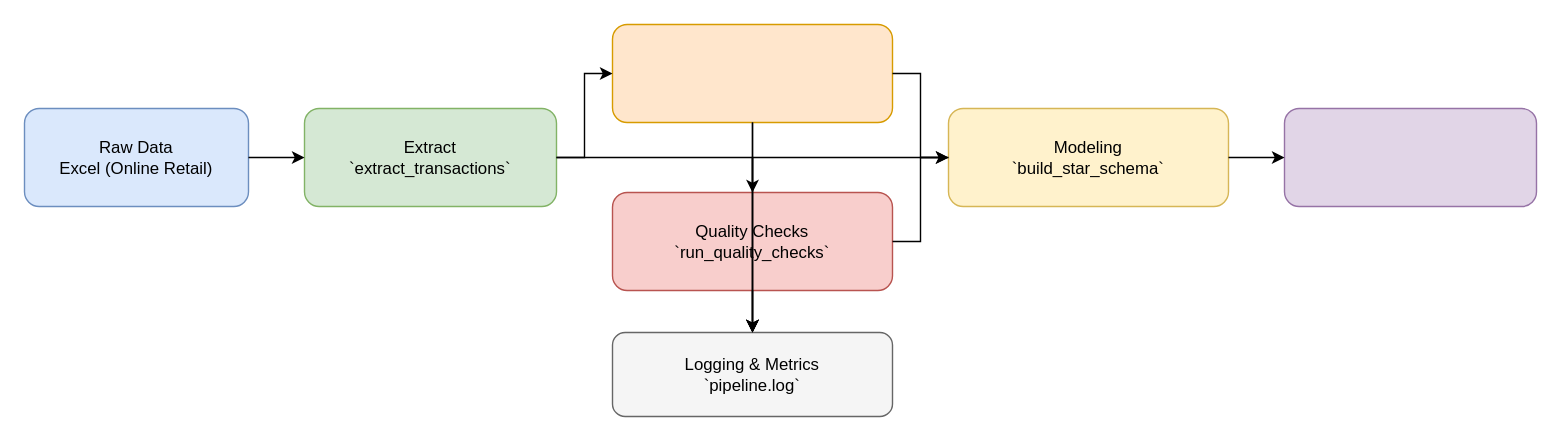
Some shapes in this 1561 by 441 pixel diagram are drawn without their labels. Each missing label, with the centre of its shape:
"Persist Parquet Outputs" belongs at pixel 1409 156.
"Transform & Enrich `enrich_transactions`" belongs at pixel 751 72.
